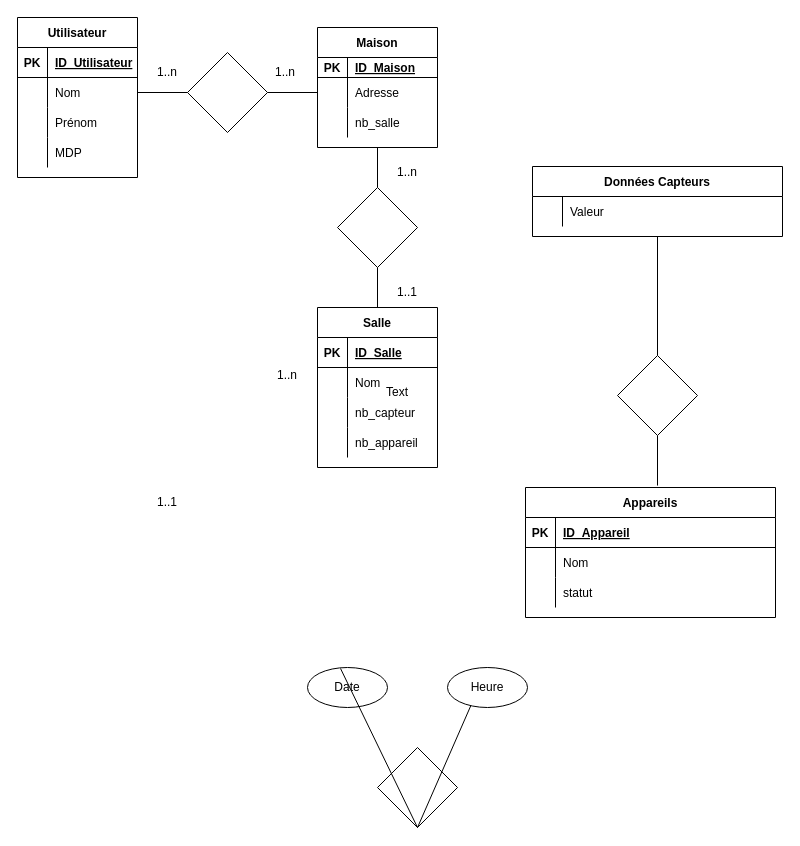
Some shapes in this 800 by 846 pixel diagram are drawn without their labels. The shapes that lost their labels are listed below. From the top down, each one's centre as x and y in pixels, then its label:
pixel 227 92: Possède
pixel 377 227: Contient
pixel 657 395: Est constitué
pixel 417 787: Envoie
